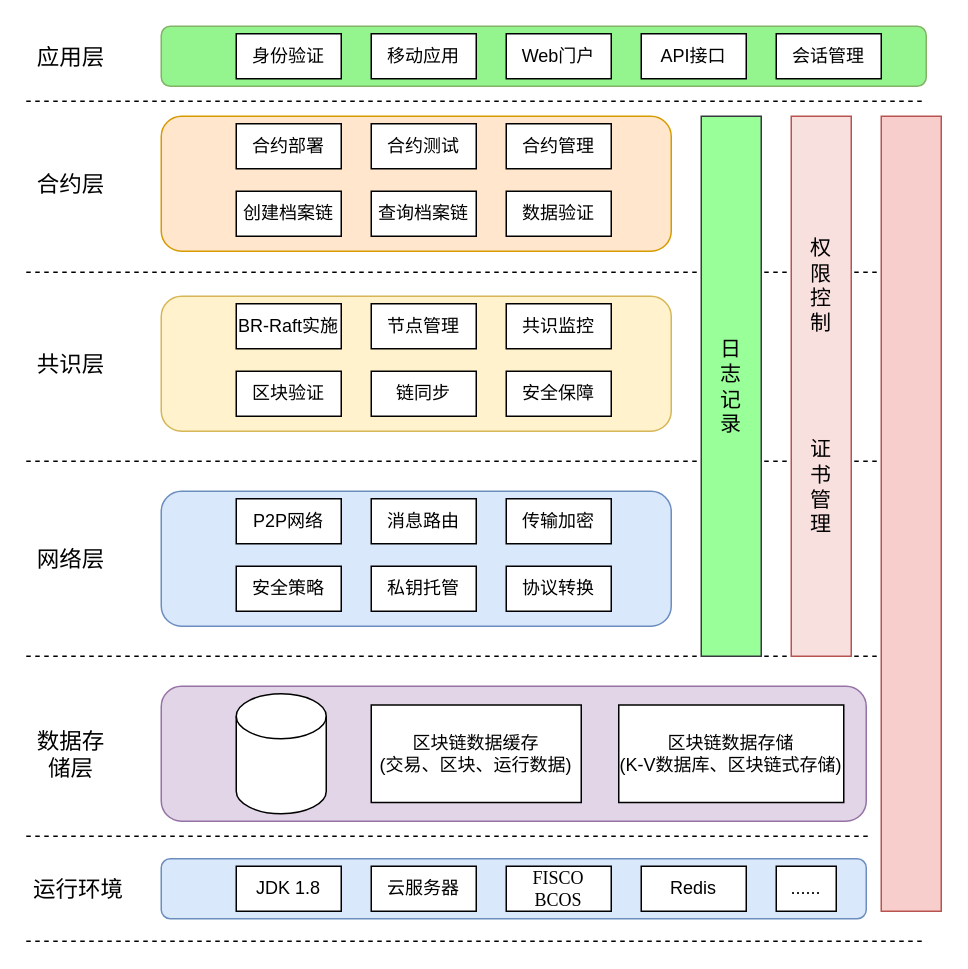
Image size: 968x969. Some labels were removed from this diagram. Here are the shapes that lost their labels. From the top down, the centre of each, then its label:
At point 910,513: "服 务 监 控".
At point 280,753: "MySQL".
